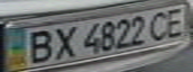2: (127, 12, 151, 47), (115, 16, 136, 50)
4: (78, 20, 103, 55)
8: (97, 18, 118, 53)
B: (18, 27, 57, 64)
C: (145, 8, 175, 42)
E: (160, 5, 190, 39)
X: (48, 25, 81, 61)
